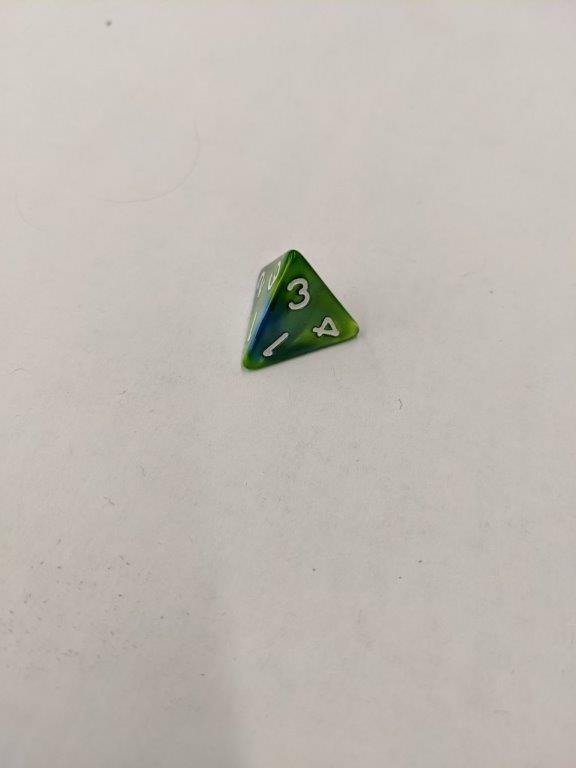d4-3: (242, 246, 362, 377)
